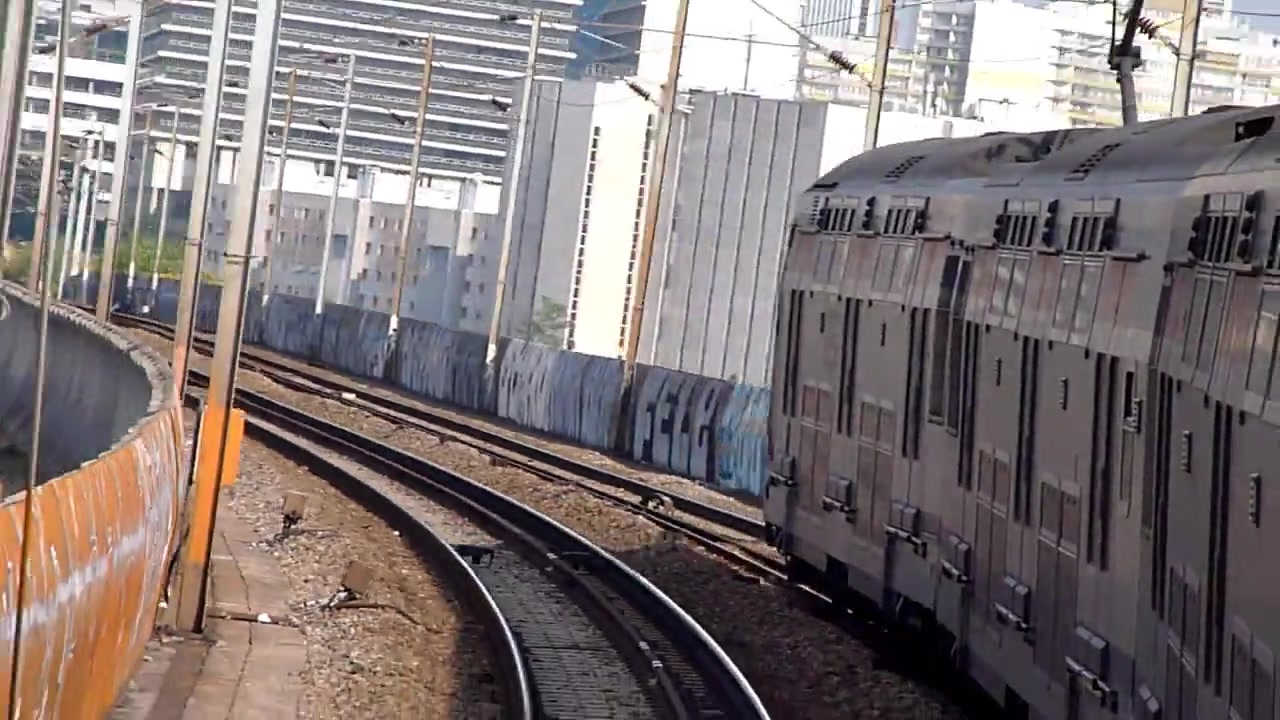train: (755, 105, 1280, 720)
